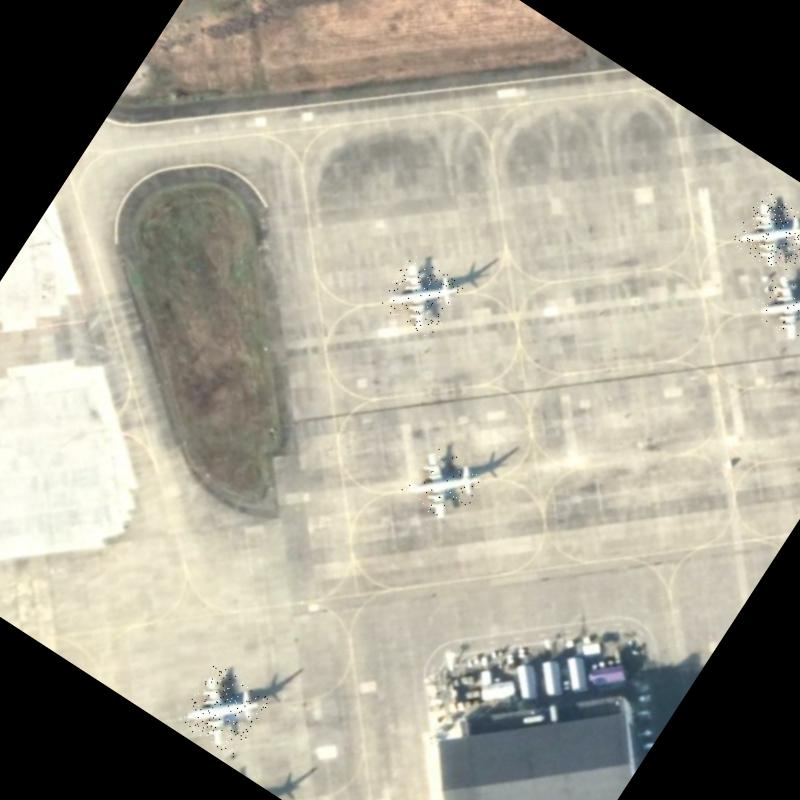A9: (176, 663, 272, 760), (398, 442, 488, 530), (377, 252, 466, 340), (730, 189, 800, 278), (749, 262, 800, 351)
